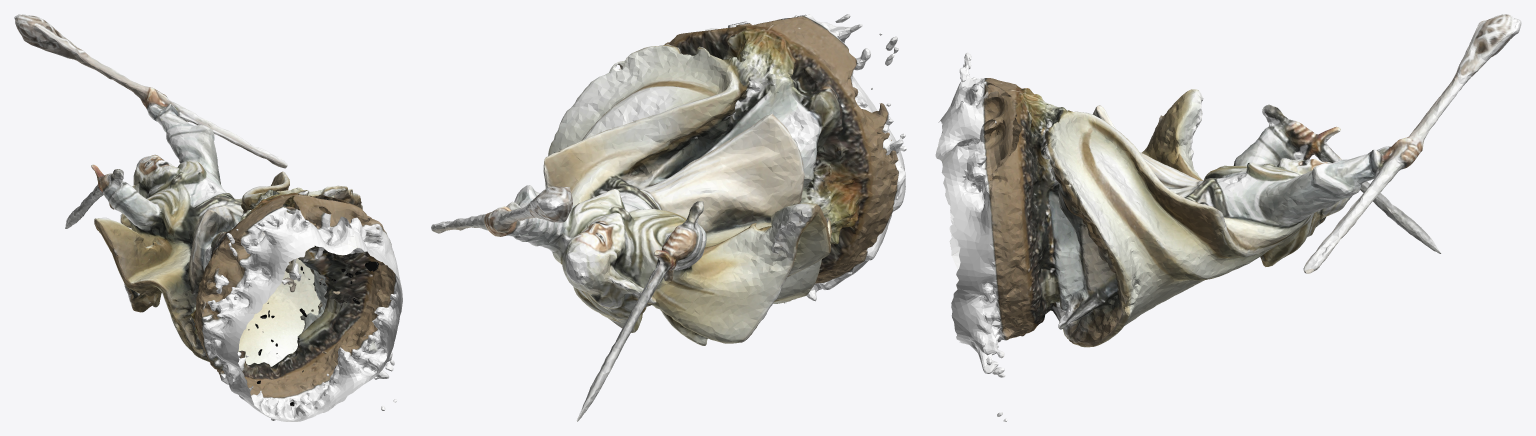
The model's file is ghandalf.fbx.
The picture shows the model from 3 angles, left to right: view 1: azimuth 30°, elevation 25°; view 2: azimuth 150°, elevation 25°; view 3: azimuth 270°, elevation 25°; orthographic projection. The views are drawn at different scales.
Parts seen in each view (by area): view 1: Model; view 2: Model; view 3: Model.
Boxes of the visible parts, bbox=[...] form: Model: bbox=[14, 14, 402, 421]; Model: bbox=[431, 14, 906, 421]; Model: bbox=[935, 14, 1521, 421].
Size of the model in its own units: 0.313 by 0.5649 by 0.3394.
1 material, 1 textured.
